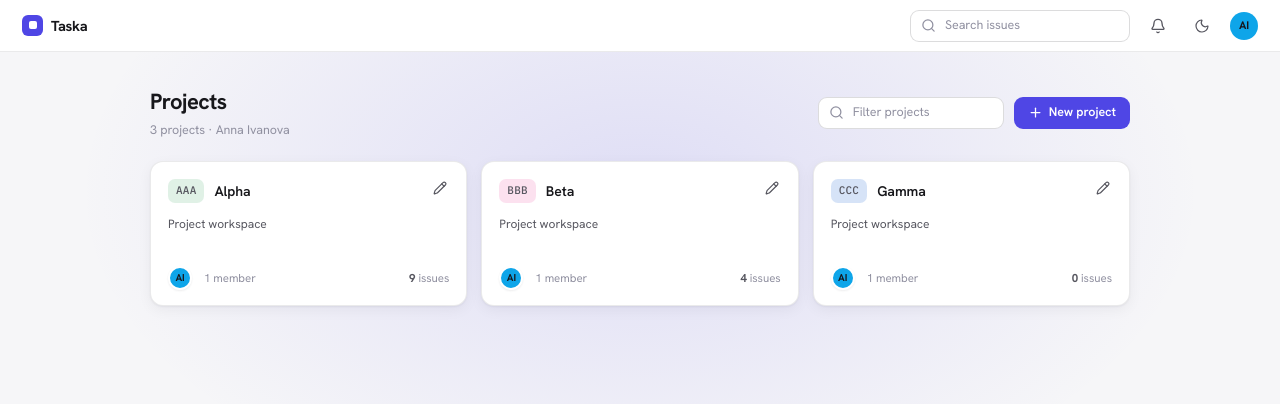
Test case: filtering the project list › says a filter matched nothing, which is not an account with no projects
Type "nothing like this" into the field with placeholder "Filter projects" at (922, 112), box [851,102,993,122]
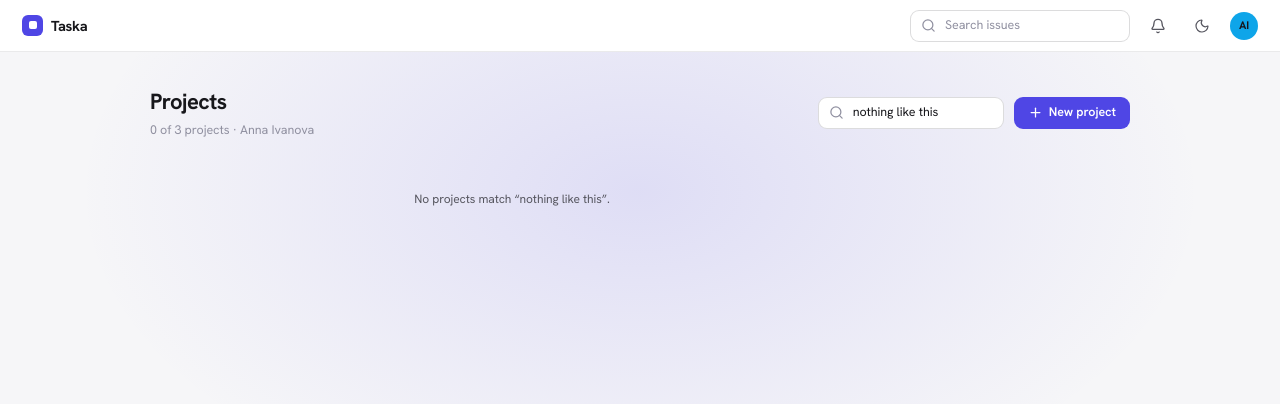
Expected: the text "No projects match “nothing like this”." is shown, [414,191,610,207]
Expected: the text "0 of 3 projects · Anna Ivanova" is shown, [150,121,314,139]
